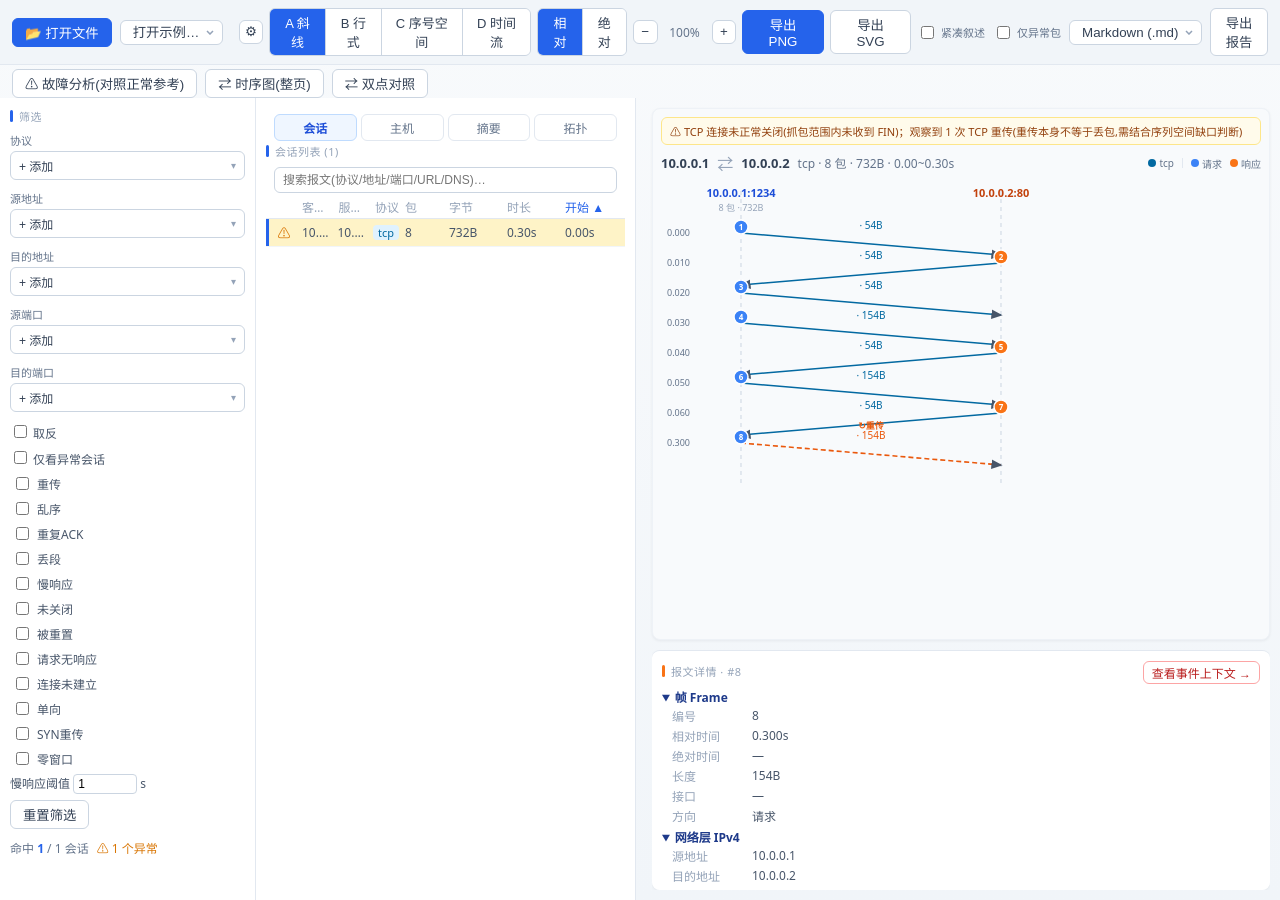
Scenario: M4 故障分析整页板块(用户要求:整页切换,非右侧局部替换) › 「查看事件上下文」命中第 2 个事件时打开对应事件,而非被 openCompare 重置回事件 1
The width and height of the screenshot is (1280, 900).
Click the button with test id "pd-view-events" at coordinates (1201, 672), box top-left (1143, 661), bottom-right (1260, 684)
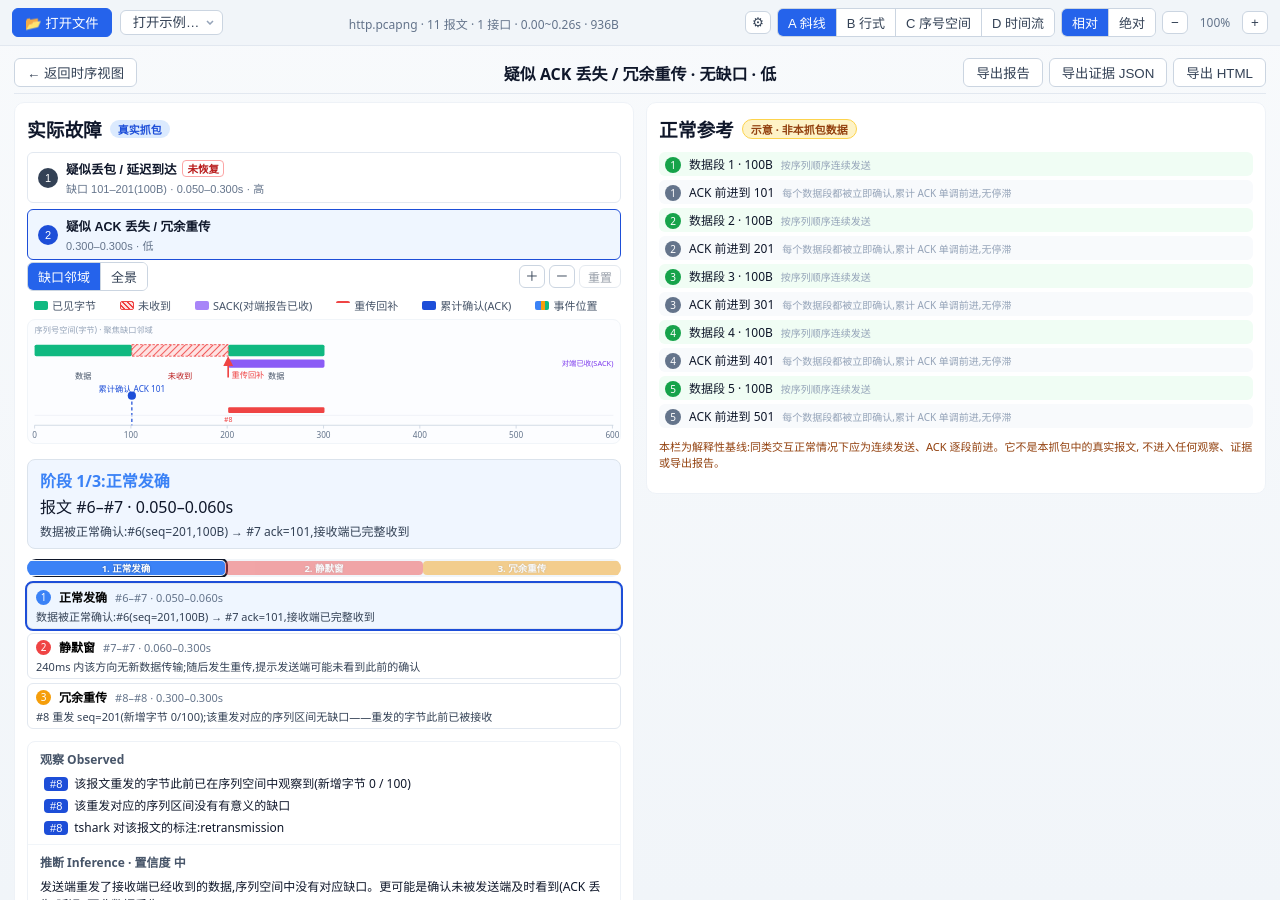
Result: the element with test id "fault-compare" is shown
Result: the text with class "fc-headline" shows "疑似 ACK 丢失 / 冗余重传" at top-left (504, 62), bottom-right (776, 84)
